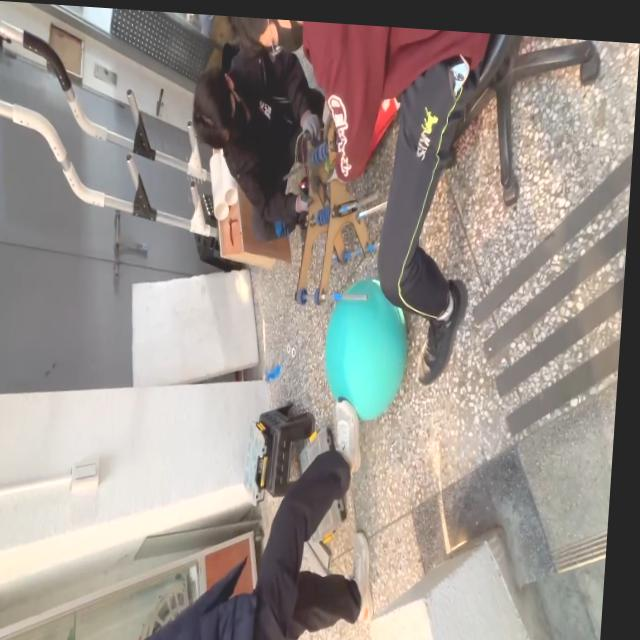ALGAE: (319, 274, 413, 426)
